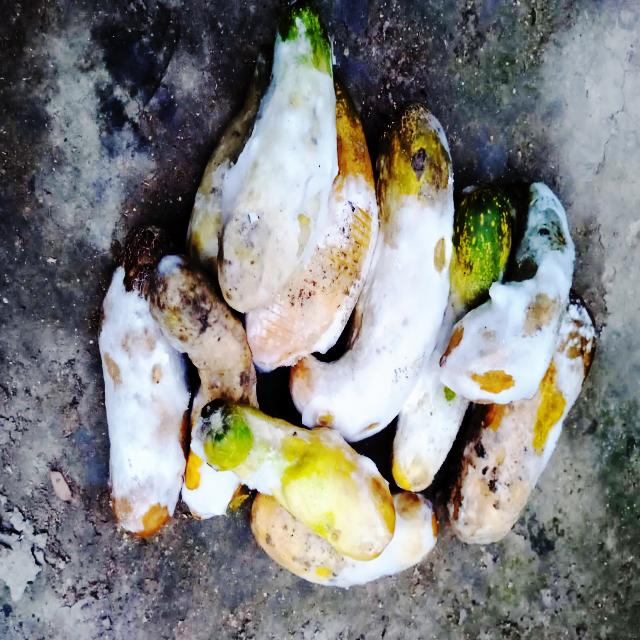Pythium-Fruit-Rot: (102, 25, 598, 589)
